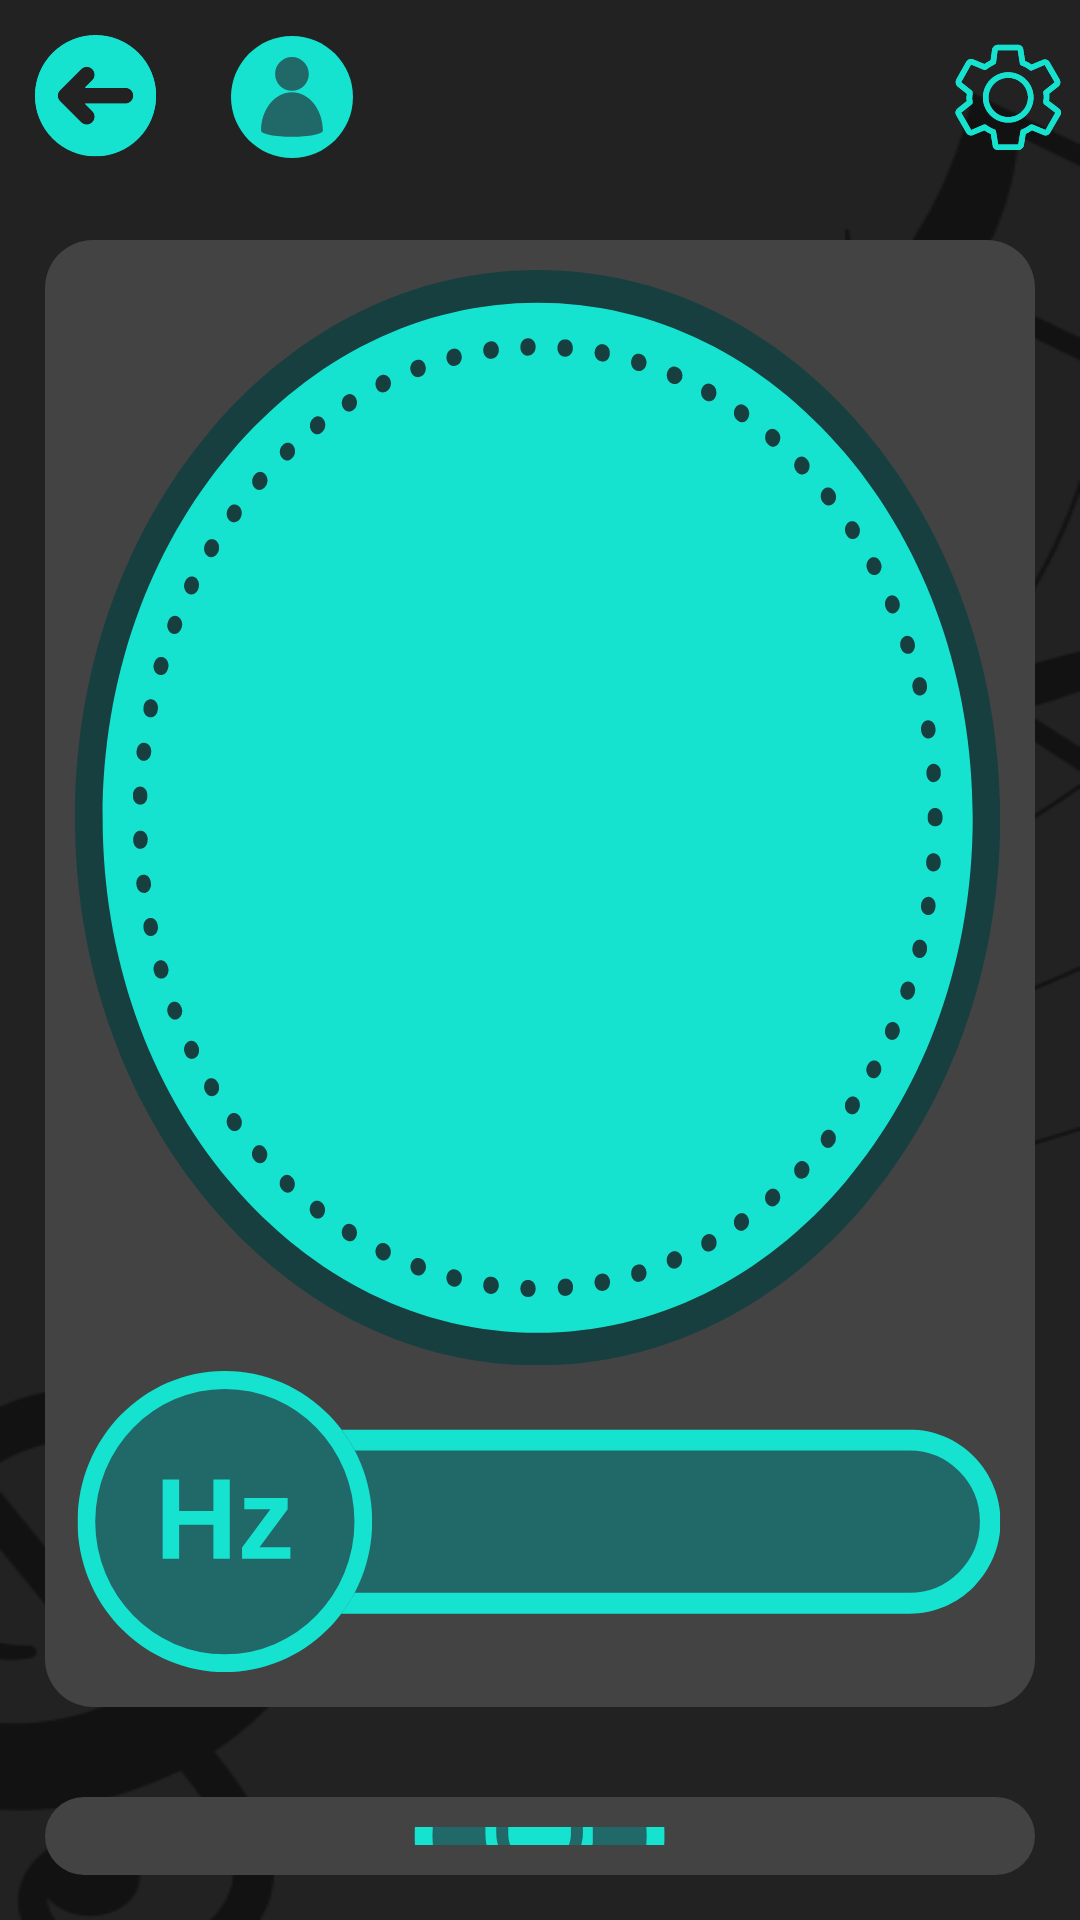

Named icons in this screenshot (1080 × 1920) and their centers, (x=x, y=y):
back: (x=95, y=96)
profile: (x=292, y=97)
settings: (x=1008, y=97)
